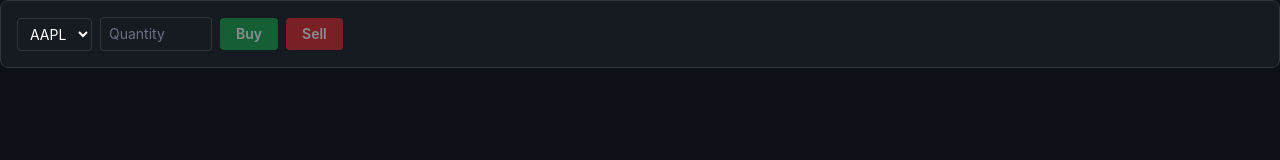
Test: TradeBar › keeps both buttons disabled while quantity is blank, and enables them once positive
The image size is (1280, 160).
Check: the button with test id "trade-bar-buy" is disabled, box [220,18,278,50]
Check: the button with test id "trade-bar-sell" is disabled, box [286,18,343,50]
In the number field with test id "trade-bar-quantity": (156, 34) [100,17,212,51], type "1.5"
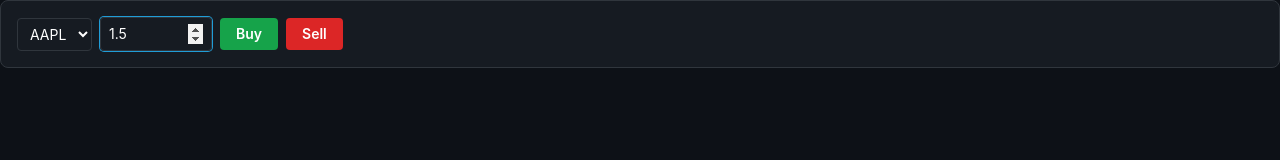
Check: the button with test id "trade-bar-buy" is enabled, box [220,18,278,50]
Check: the button with test id "trade-bar-sell" is enabled, box [286,18,343,50]
